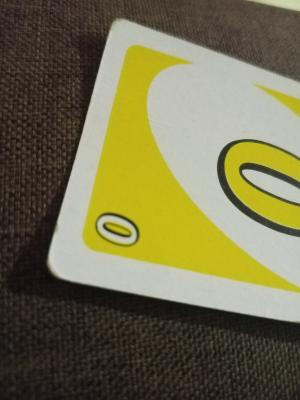num_0: (83, 194, 157, 261)
